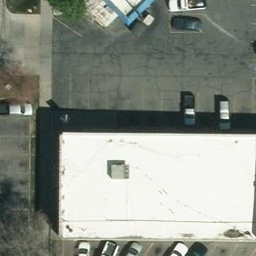car: (171, 15, 205, 35), (217, 100, 234, 131), (1, 103, 33, 117), (183, 92, 195, 127), (170, 1, 205, 12), (167, 241, 191, 254), (125, 240, 142, 256), (76, 239, 91, 256), (101, 241, 119, 255)
